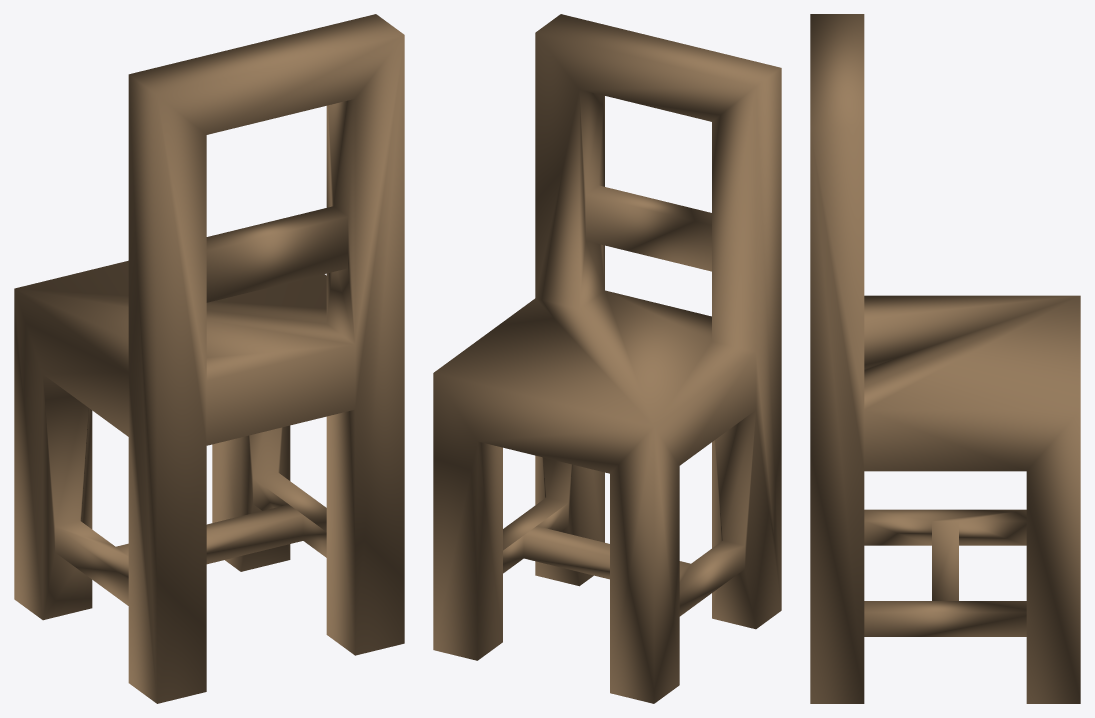
Rendered from Chair.fbx.
3 views of the same model, side by side, from view 1: azimuth 30°, elevation 25°; view 2: azimuth 150°, elevation 25°; view 3: azimuth 270°, elevation 25° (orthographic). The views are drawn at different scales.
Visible parts, largest first — view 1: Chair_chair; view 2: Chair_chair; view 3: Chair_chair.
Boxes of the visible parts, x1,y1,x2,y2 form: Chair_chair: (14,14,404,703); Chair_chair: (433,14,781,703); Chair_chair: (810,14,1080,703).
Size of the model in its own units: 38.3 by 90 by 38.3.
